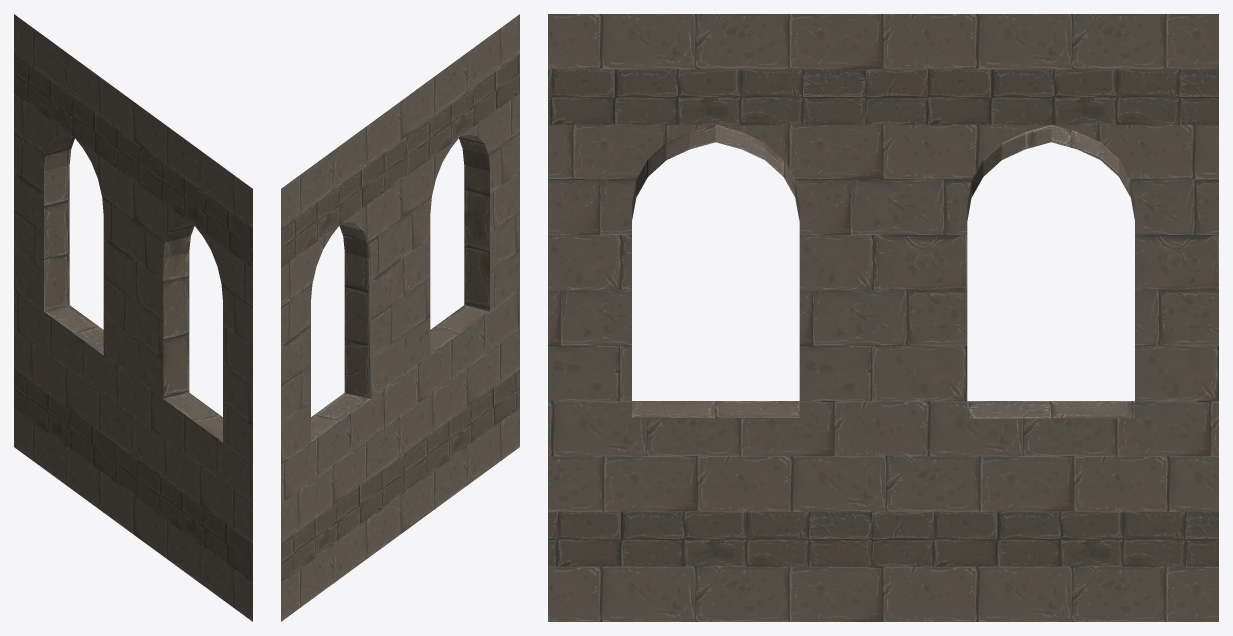
The model's file is Ruins_WindowWall_Intact_01a.fbx.
The picture shows the model from 3 angles, left to right: view 1: azimuth 30°, elevation 25°; view 2: azimuth 150°, elevation 25°; view 3: azimuth 270°, elevation 25°; orthographic projection. The views are drawn at different scales.
Visible parts, largest first — view 1: Ruins_WindowWall_Intact_01a; view 2: Ruins_WindowWall_Intact_01a; view 3: Ruins_WindowWall_Intact_01a.
Part boxes in pixels (x1,y1,x2,y2): Ruins_WindowWall_Intact_01a: [14, 14, 252, 621]; Ruins_WindowWall_Intact_01a: [281, 14, 519, 621]; Ruins_WindowWall_Intact_01a: [548, 14, 1218, 621].
Bounding box in the file's own units: 0.5 × 8 × 8.
1 material, 1 textured.
